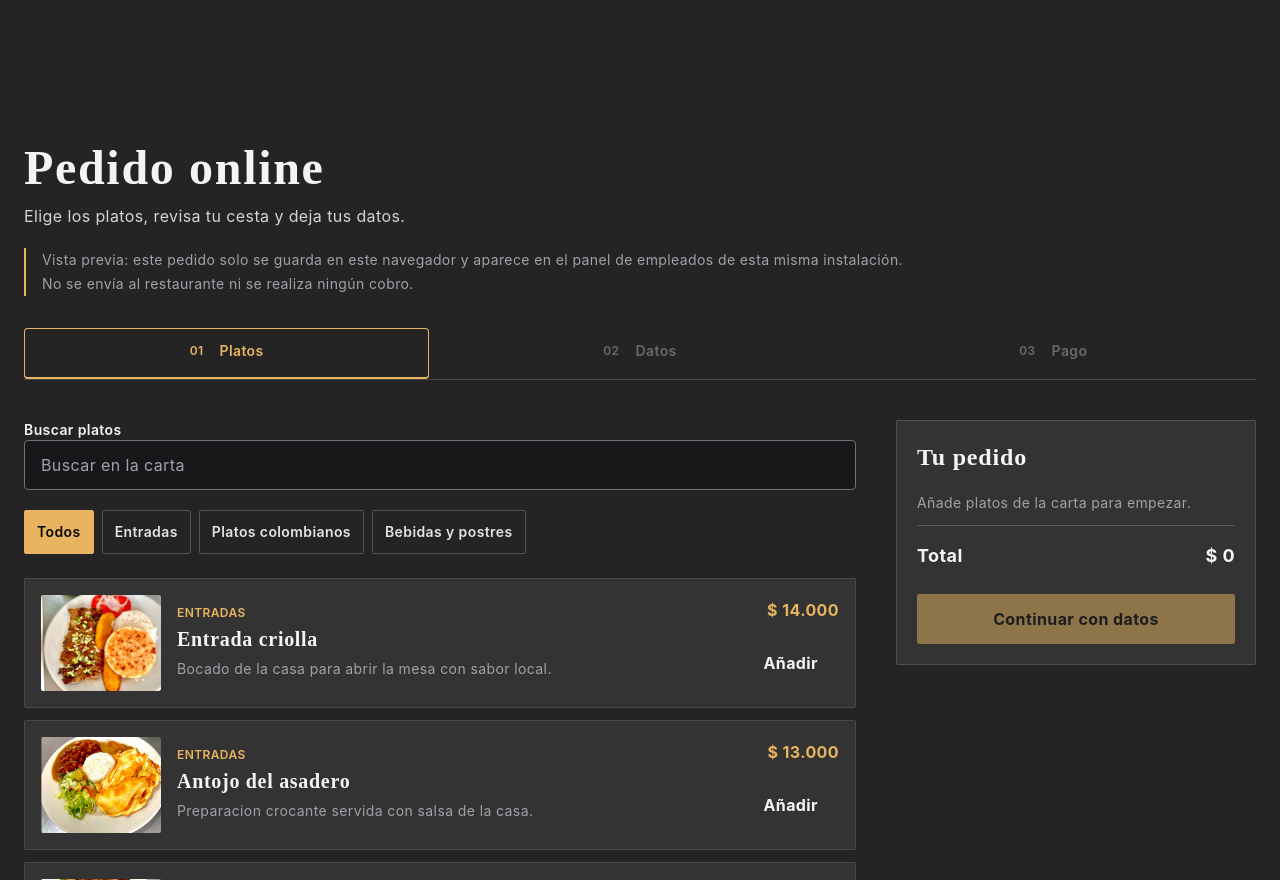
Scenario: OrderPage › requires dish selection and customer details before payment
This screenshot has width=1280, height=880.
Expected: the button "02 Datos" is disabled, x1=437 y1=328 x2=843 y2=379
Expected: the button "03 Pago" is disabled, x1=851 y1=328 x2=1256 y2=379
Click the button with aria-label "Añadir Entrada criolla" at coordinates (791, 663), box x1=742 y1=638 x2=839 y2=688
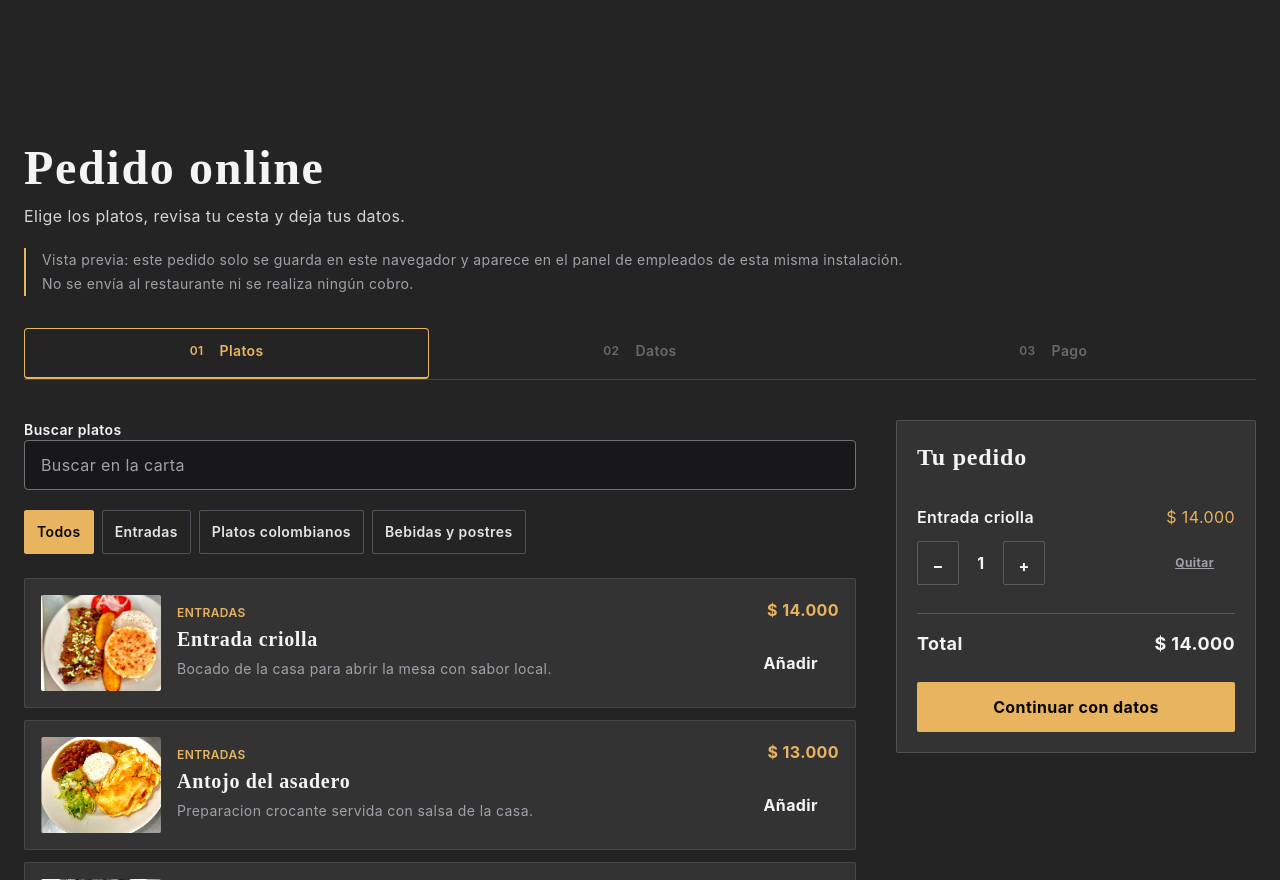
Click the button "Continuar con datos" at coordinates (1076, 707), box x1=917 y1=682 x2=1235 y2=732
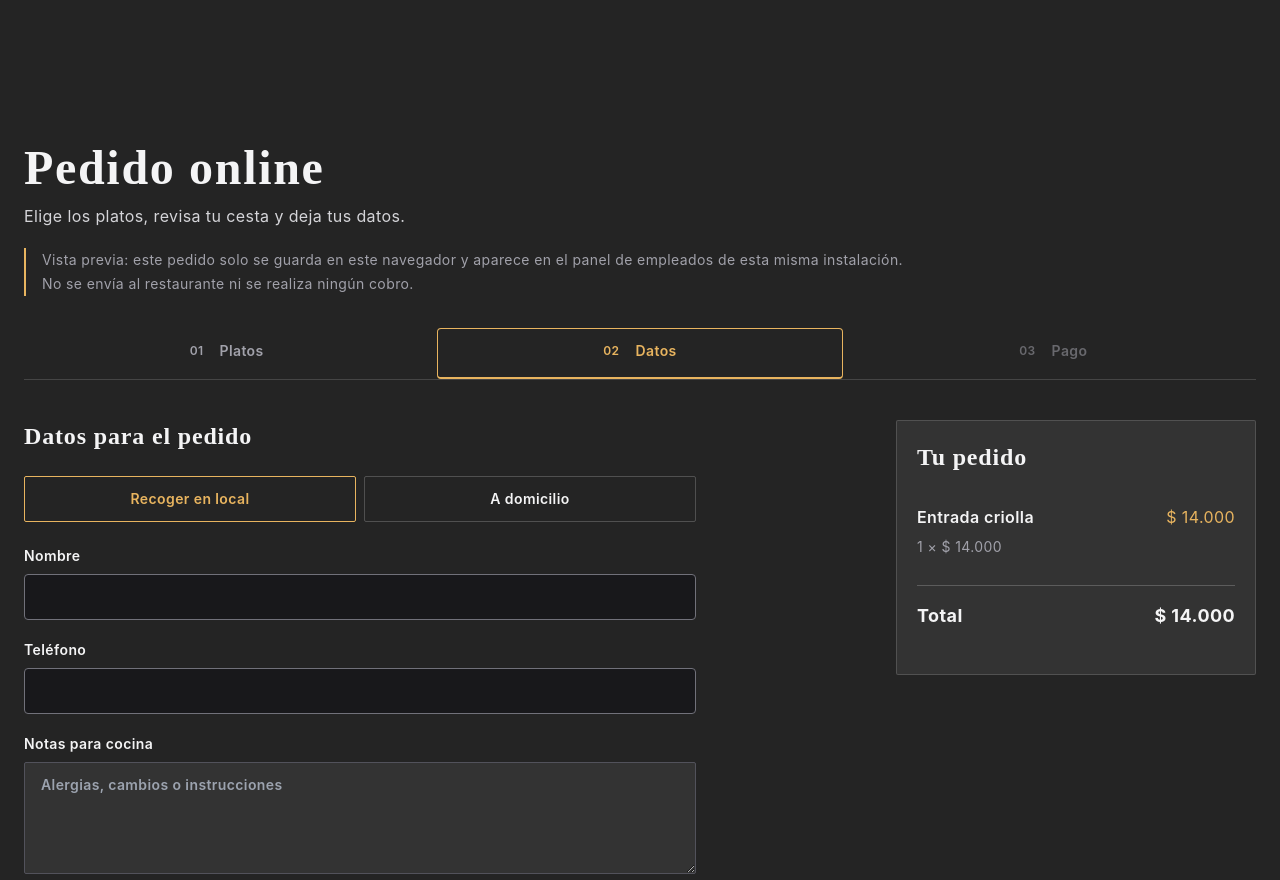
Expected: the button "03 Pago" is disabled, x1=851 y1=328 x2=1256 y2=379
Now the button "02 Datos" is marked as current, box x1=437 y1=328 x2=843 y2=379
Type "Cliente de prueba" into the field labelled "Nombre" at coordinates (360, 597), box x1=24 y1=574 x2=696 y2=620
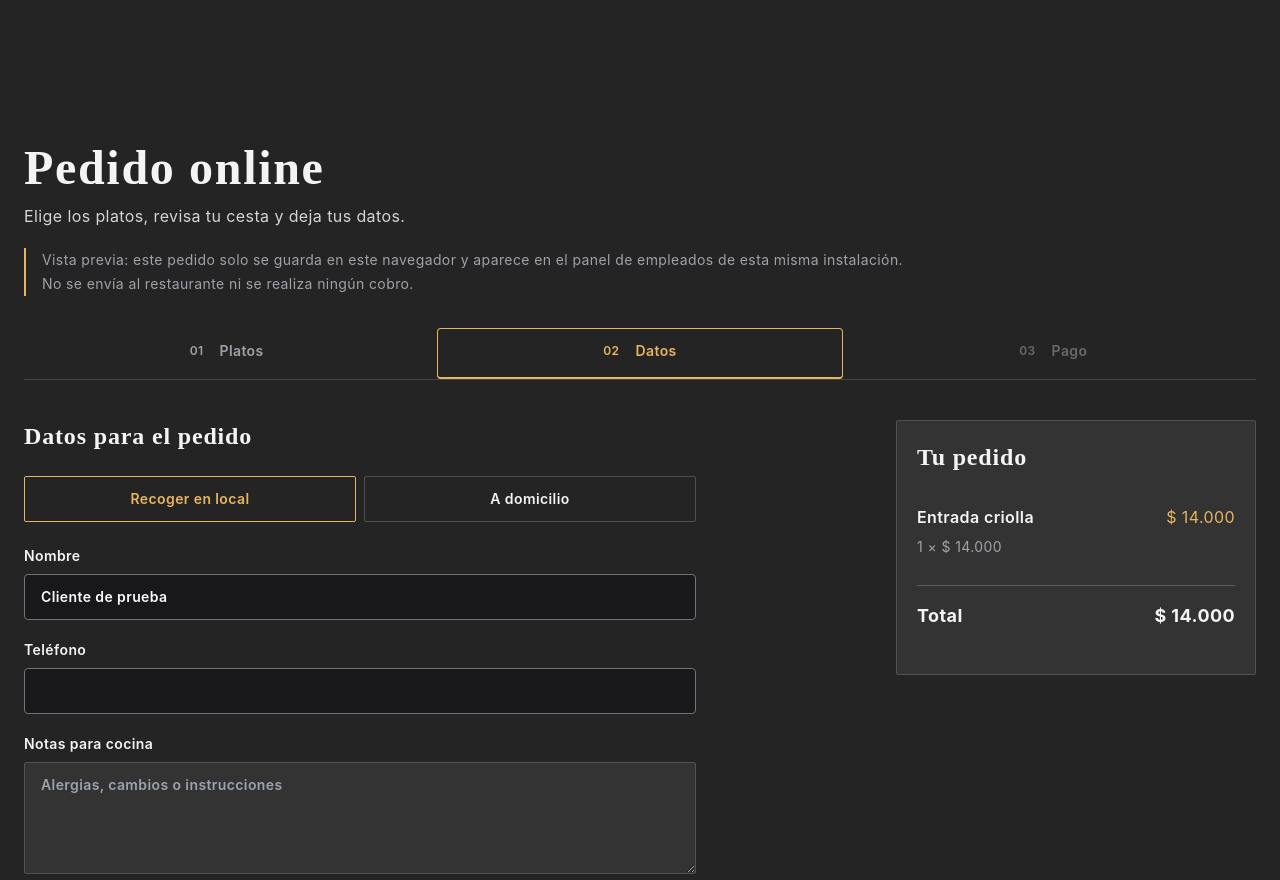
Type "3001234567" into the field labelled "Teléfono" at coordinates (360, 691), box x1=24 y1=668 x2=696 y2=714
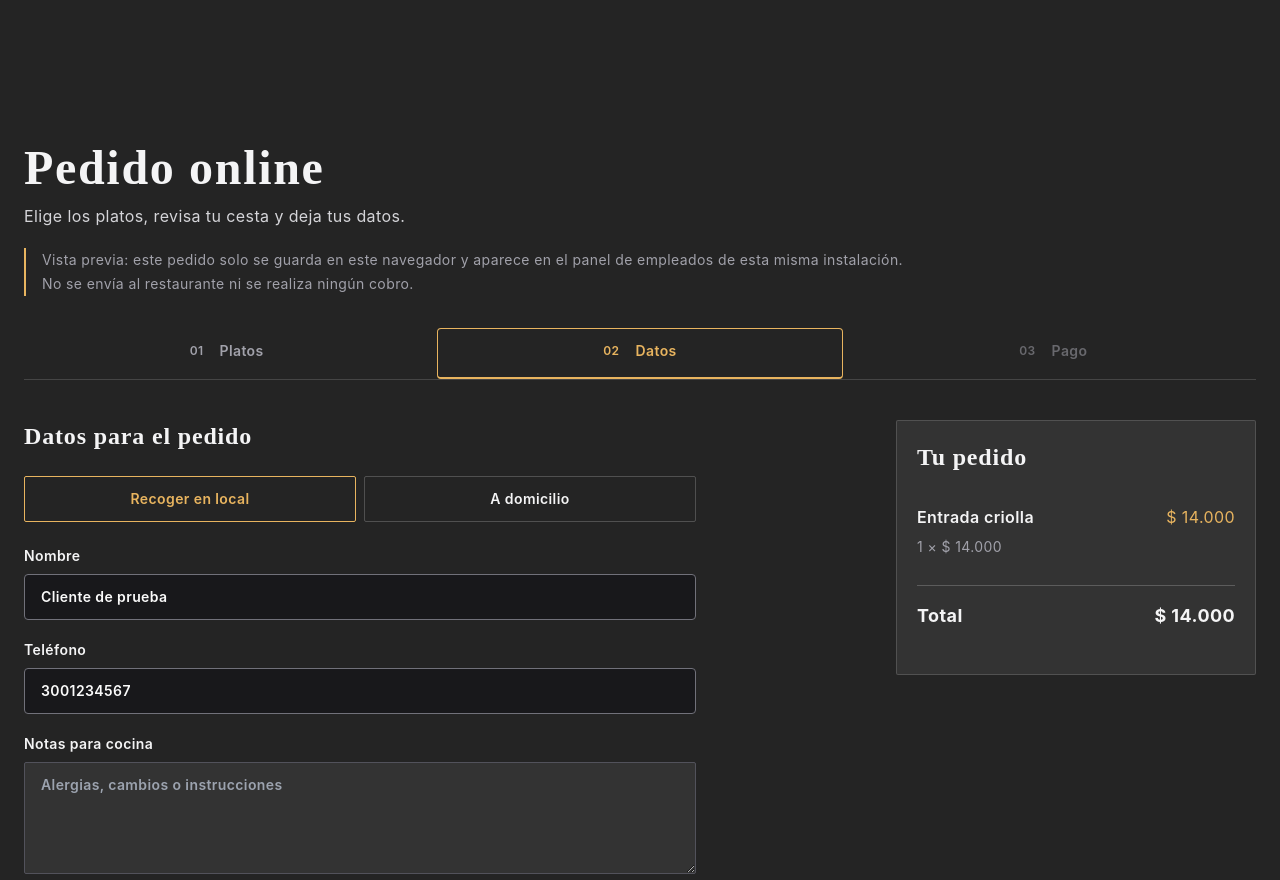
Click the button "01 Platos" at coordinates (227, 354), box x1=24 y1=328 x2=429 y2=379
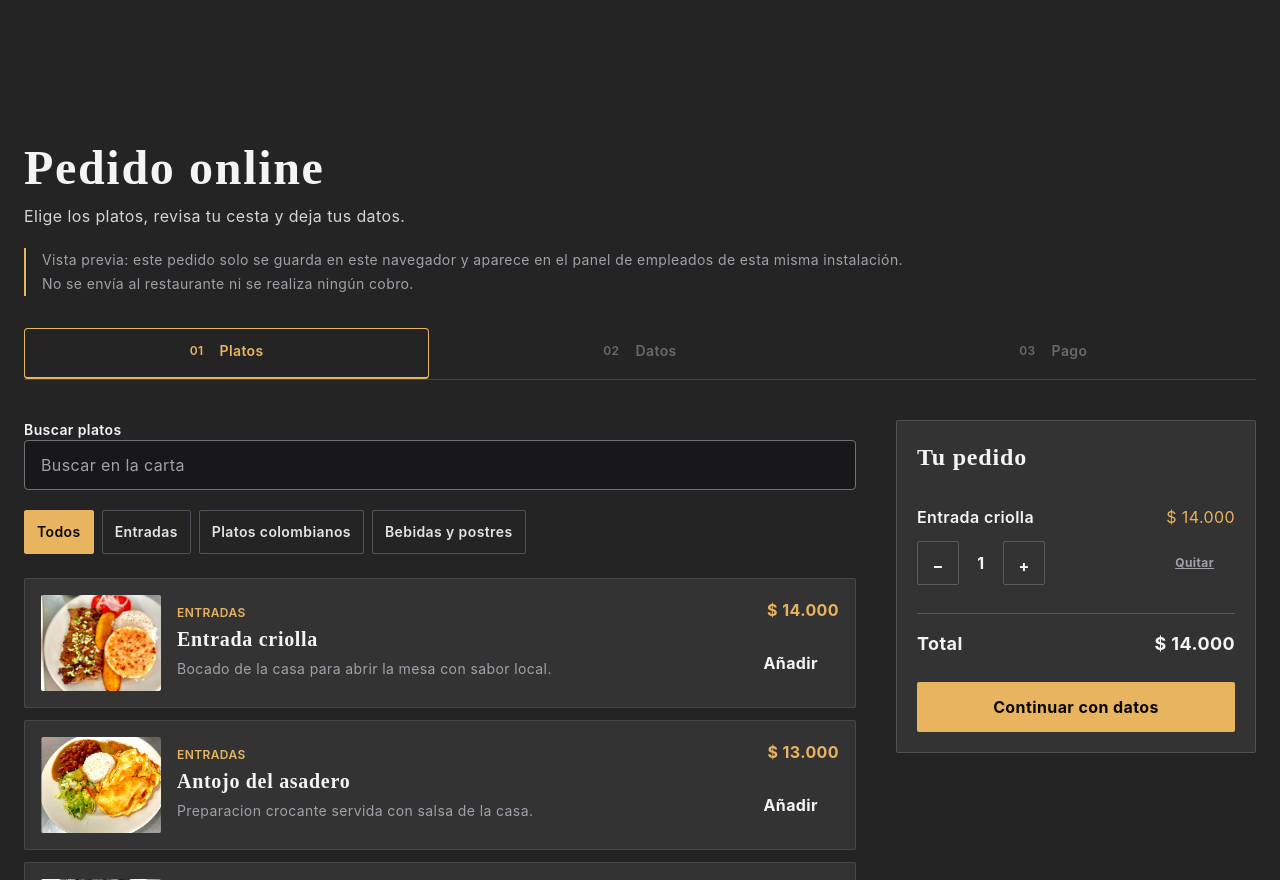
Now the text named "Cantidad" reads "1", box x1=977 y1=553 x2=985 y2=573
Click the button "Continuar con datos" at coordinates (1076, 707), box x1=917 y1=682 x2=1235 y2=732
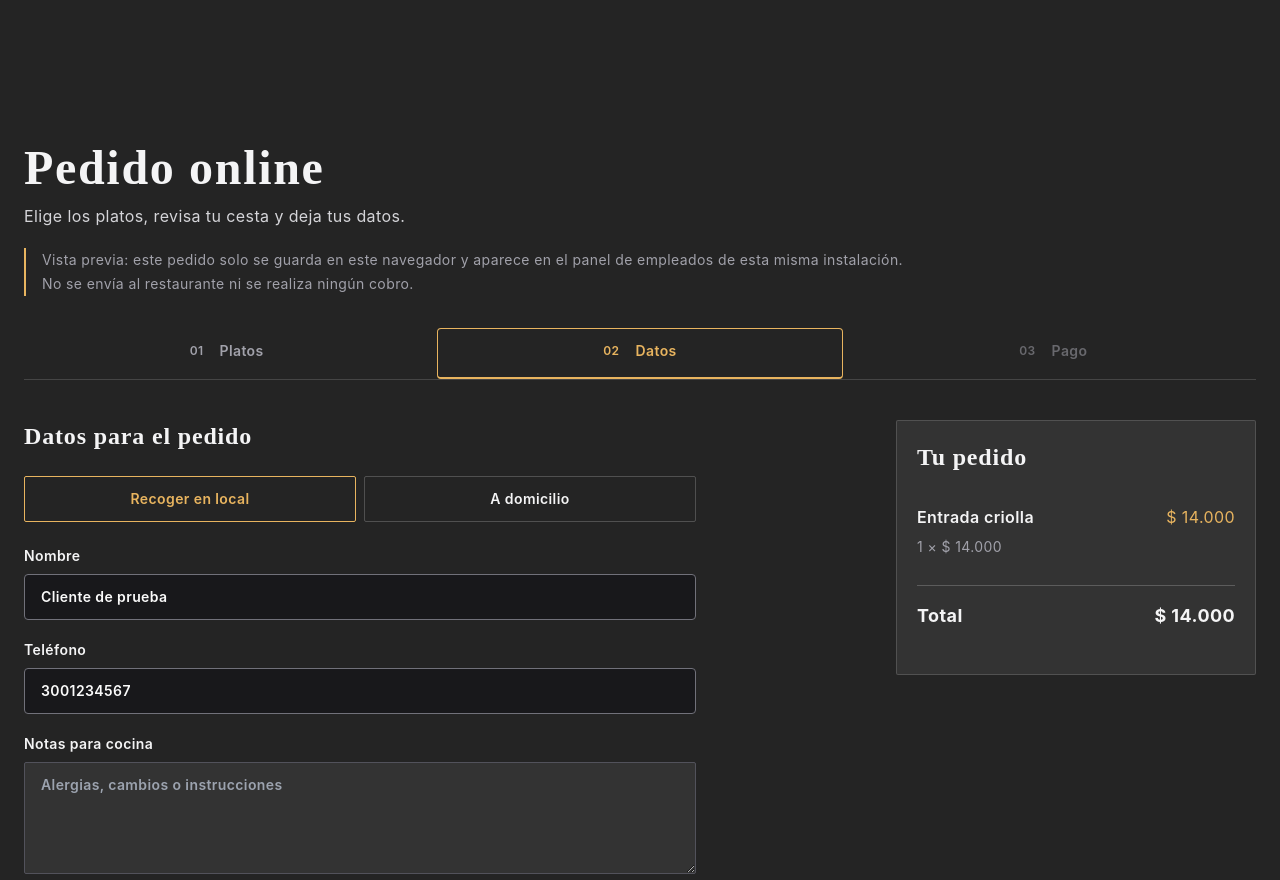
Now the field labelled "Nombre" holds "Cliente de prueba", box x1=24 y1=574 x2=696 y2=620
Now the field labelled "Teléfono" holds "3001234567", box x1=24 y1=668 x2=696 y2=714
